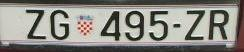-: (173, 23, 182, 29)
4: (99, 10, 121, 40)
5: (149, 10, 169, 41)
9: (125, 11, 144, 41)
G: (50, 10, 70, 41)
R: (209, 10, 229, 40)
Z: (25, 9, 47, 39), (185, 10, 205, 42)
